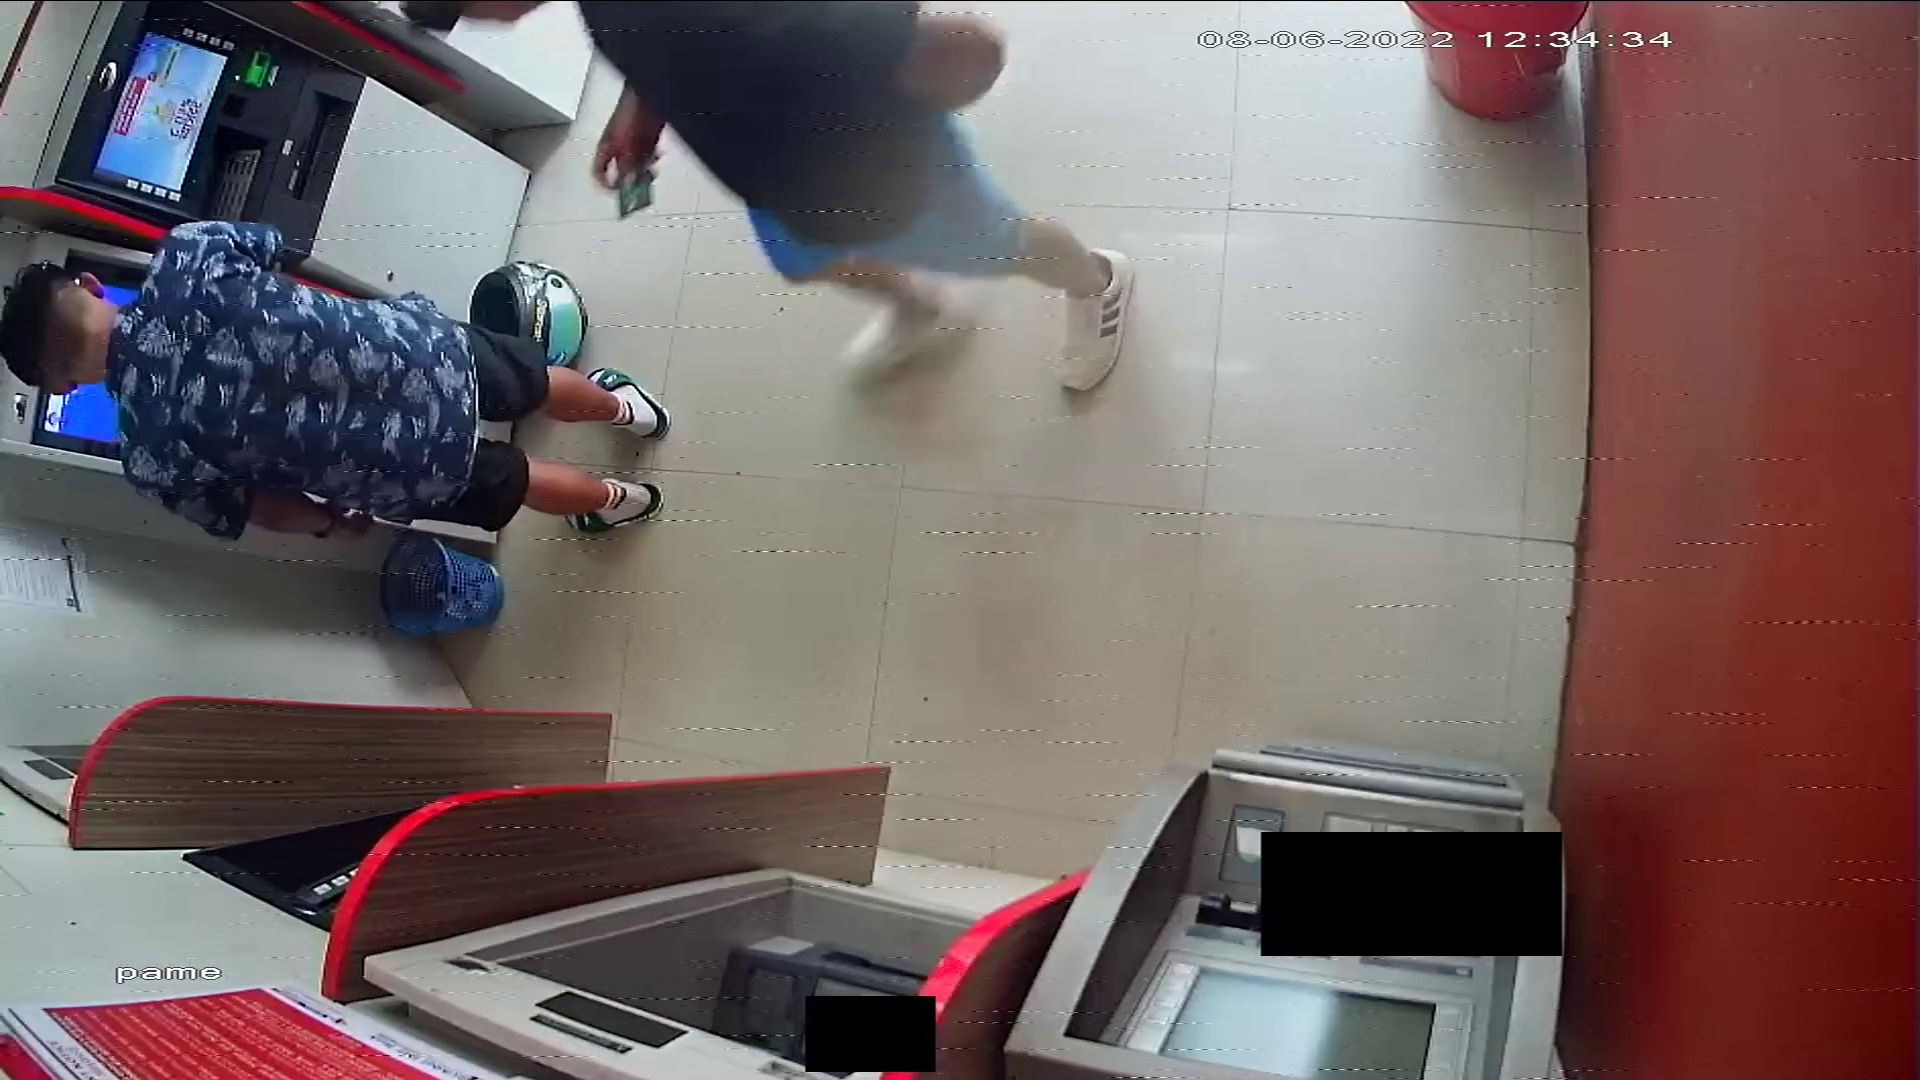helmet: (463, 258, 589, 378)
person: (387, 1, 1131, 414), (1, 226, 671, 546)
